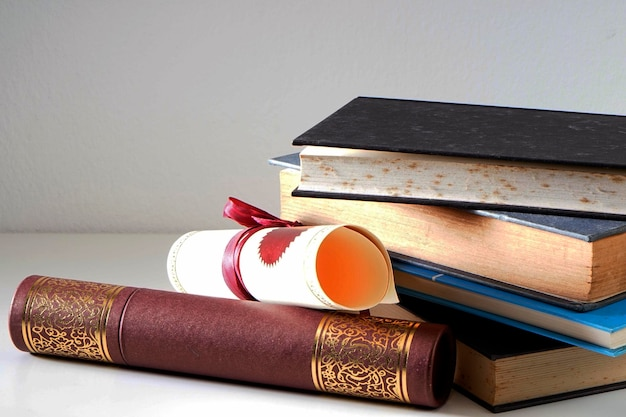book: (273, 87, 626, 395)
